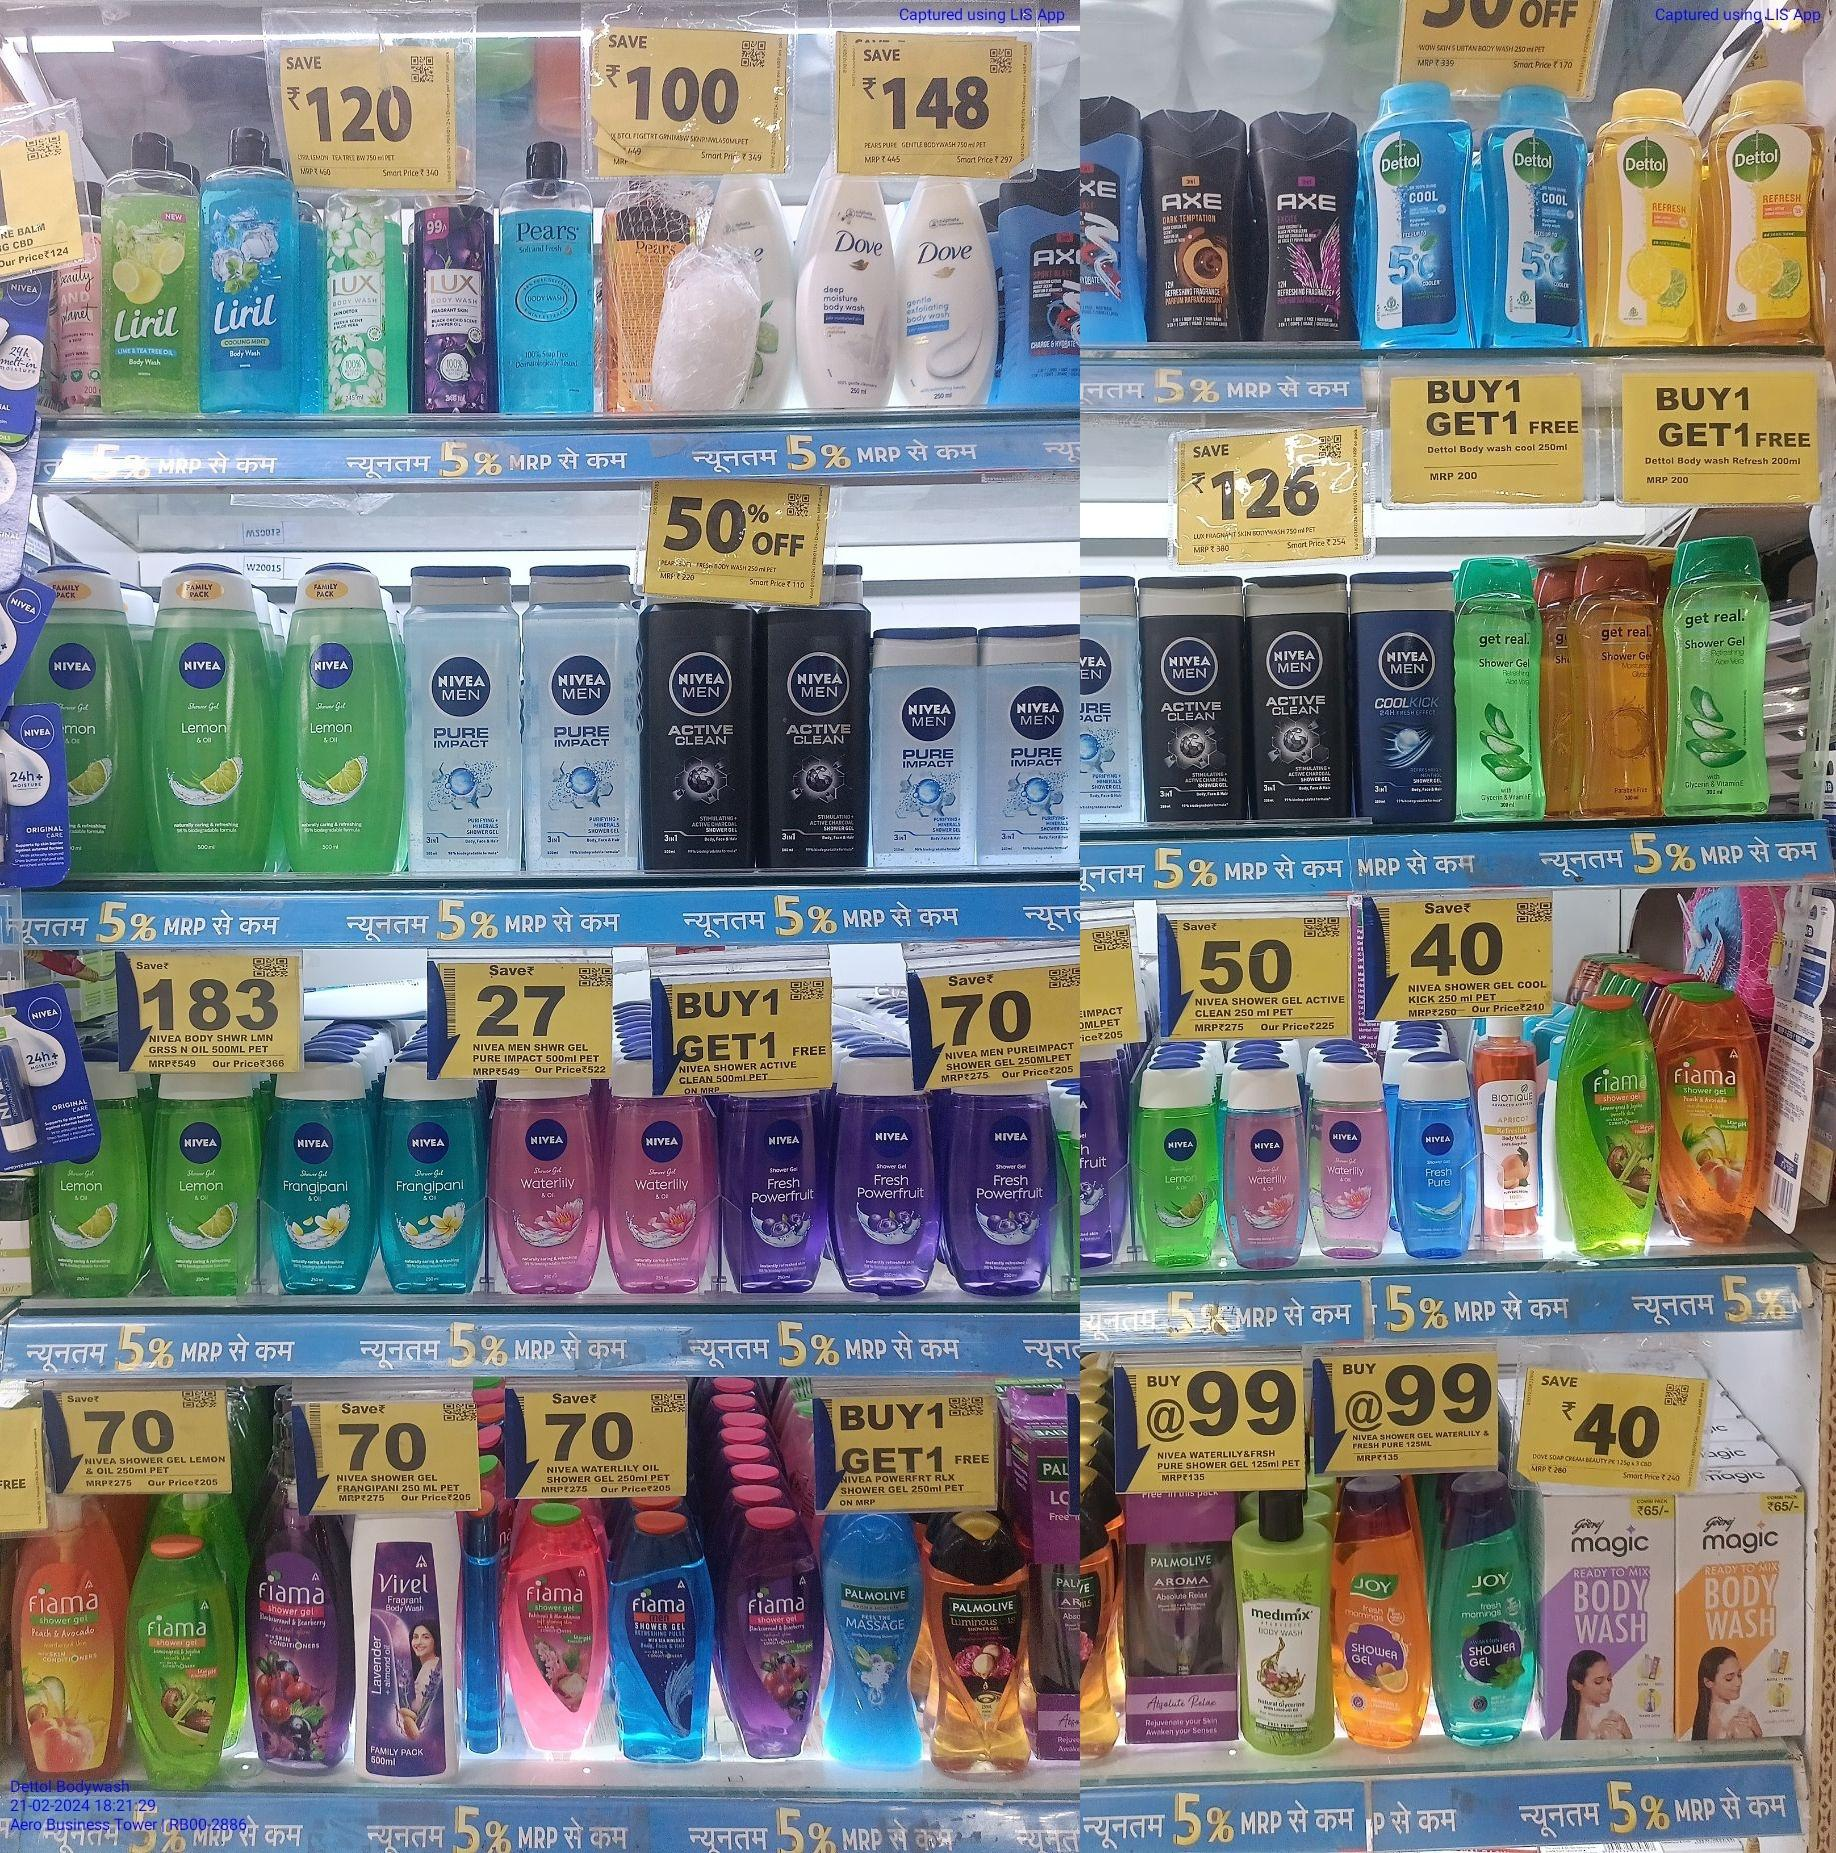Dettol_Bodywash_Cool: (1483, 77, 1599, 355), (1360, 77, 1476, 353)
Dettol_Bodywash_Refresh: (1705, 81, 1833, 345), (1597, 81, 1705, 350)
Dove_Deep_Moisture_Body_Wash_250ML: (805, 168, 898, 409)
Dove_Gentle_Exfoliating_Body_Wash_250ML: (894, 173, 995, 417)
Fiama_Shower_Gel_Lemongrass_and_Jojoba_250ML: (128, 1542, 240, 1786), (1567, 997, 1661, 1256)
Fiama_Shower_Gel_Patchouli_and_Macadamia_250ML: (509, 1502, 604, 1750)
Fiama_Shower_Gel_Peach_and_Avocado_250ML: (1665, 987, 1765, 1246)
Get_Real_Shower_Gel_Moisturising_Glycerin_300ML: (1567, 555, 1658, 821)
Joy_Shower_Gel_Mandarin_and_Lemongrass_250ML: (1335, 1478, 1426, 1749)
Joy_Shower_Gel_Mint_and_Eucalyptus_250ML: (1432, 1480, 1543, 1749)
Lux_Black_Orchid_Scent_and_Juniper_Oil_Body_Wash_245ML: (409, 193, 494, 422)
Lux_Body_Wash_Skin_Detox_Freesia_Scent_and_Alove_Vera_245ML: (321, 198, 407, 419)
Nivea_Shower_Gel_Frangipani_and_Oil_250ML: (271, 1058, 373, 1296), (380, 1061, 483, 1295)
Nivea_Shower_Gel_Fresh_Powerfruit_250ML: (832, 1056, 936, 1295), (948, 1085, 1059, 1298), (728, 1085, 827, 1298)
Nivea_Shower_Gel_Lemon_and_Oil_250ML: (146, 563, 271, 873), (279, 568, 402, 876), (153, 1063, 254, 1298), (1133, 1063, 1226, 1275), (42, 1155, 145, 1303)
Nivea_Shower_Gel_Waterlily_and_Oil_250ML: (491, 1066, 602, 1295), (610, 1066, 708, 1296), (1310, 1053, 1392, 1261), (1229, 1056, 1306, 1273)
Palmolive_Aroma_Moments_Feel_The_Massage_Shower_Gel_250ML: (817, 1510, 926, 1769)
Palmolive_Luminous_Oils_Invigorating_Macadamia_Oil_With_Peony_250ML: (930, 1523, 1039, 1781)
Pears_Pure_Glycerin_and_Mint_Extracts_Body_Wash_250ML: (503, 143, 599, 415)
